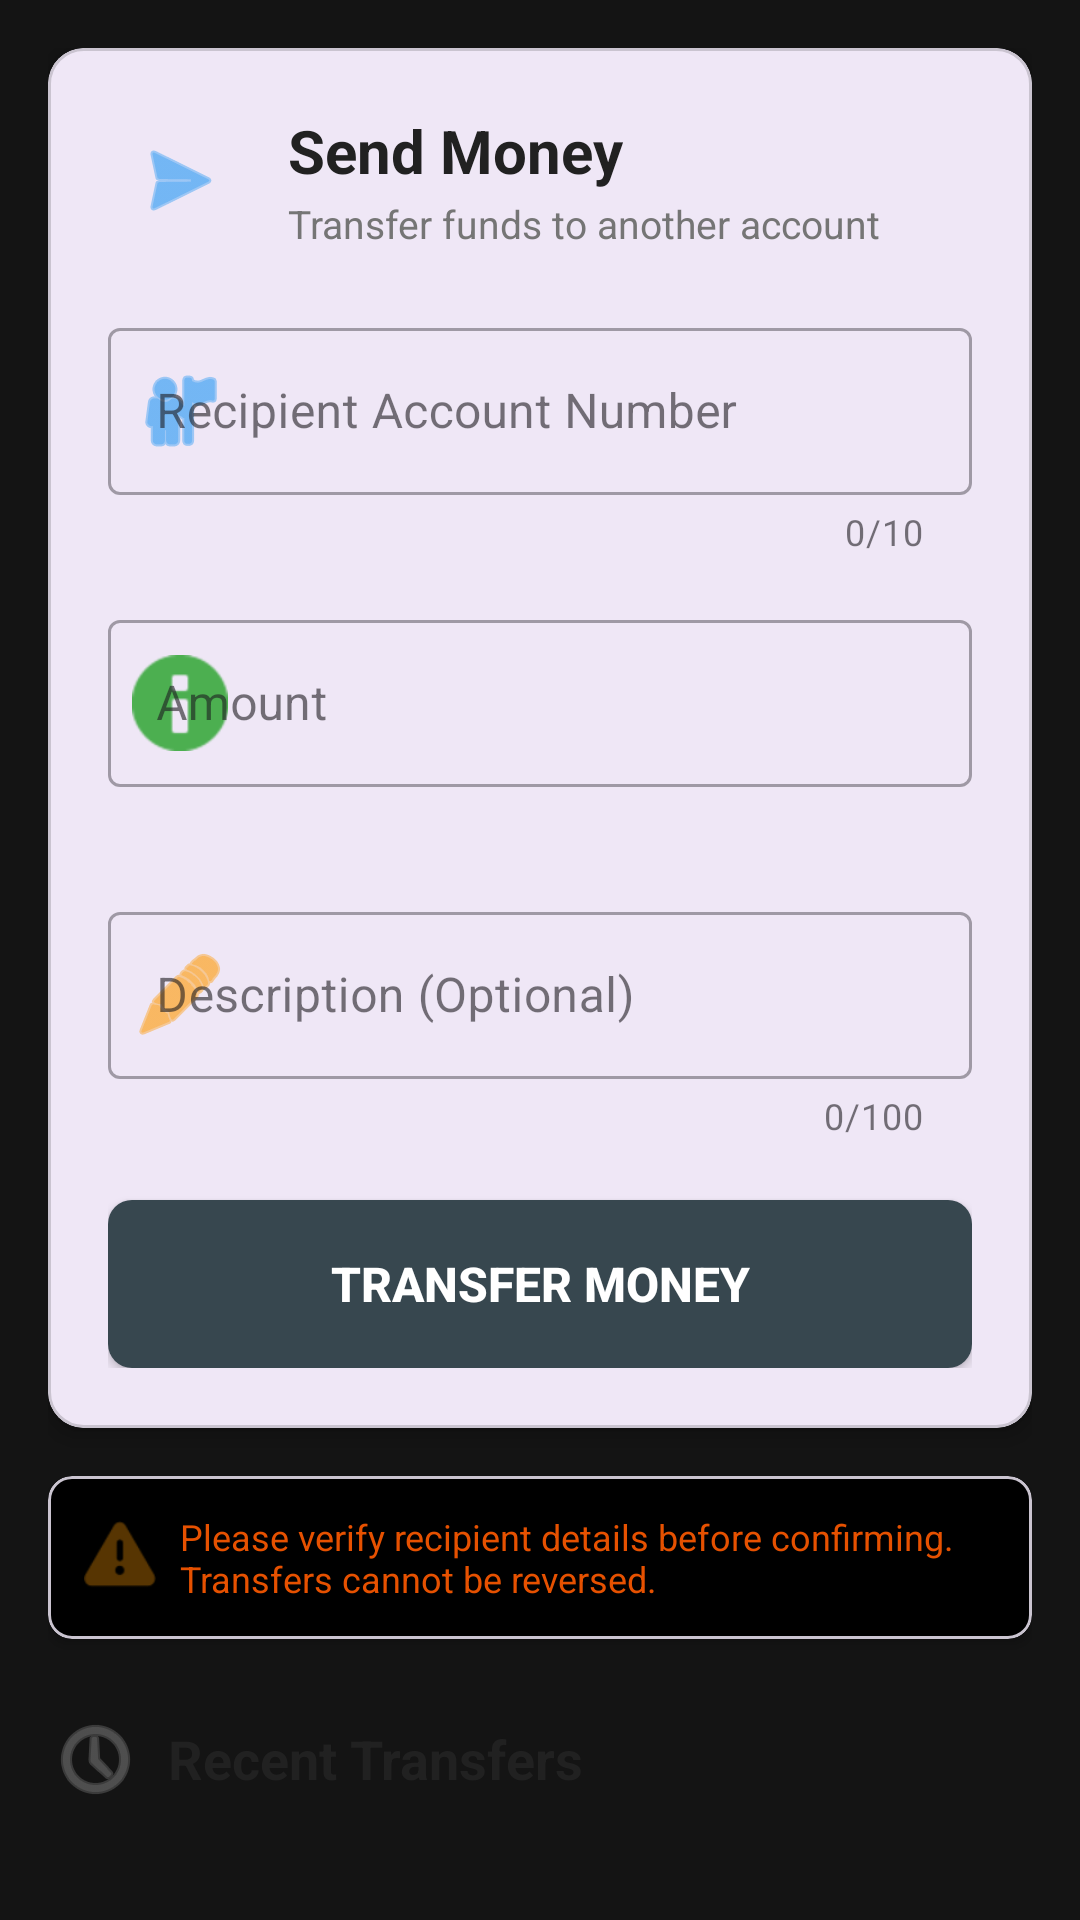

Icon click points for this 1080 × 1920 phone screenshot, format [x,y]:
alert: [120,1554]
